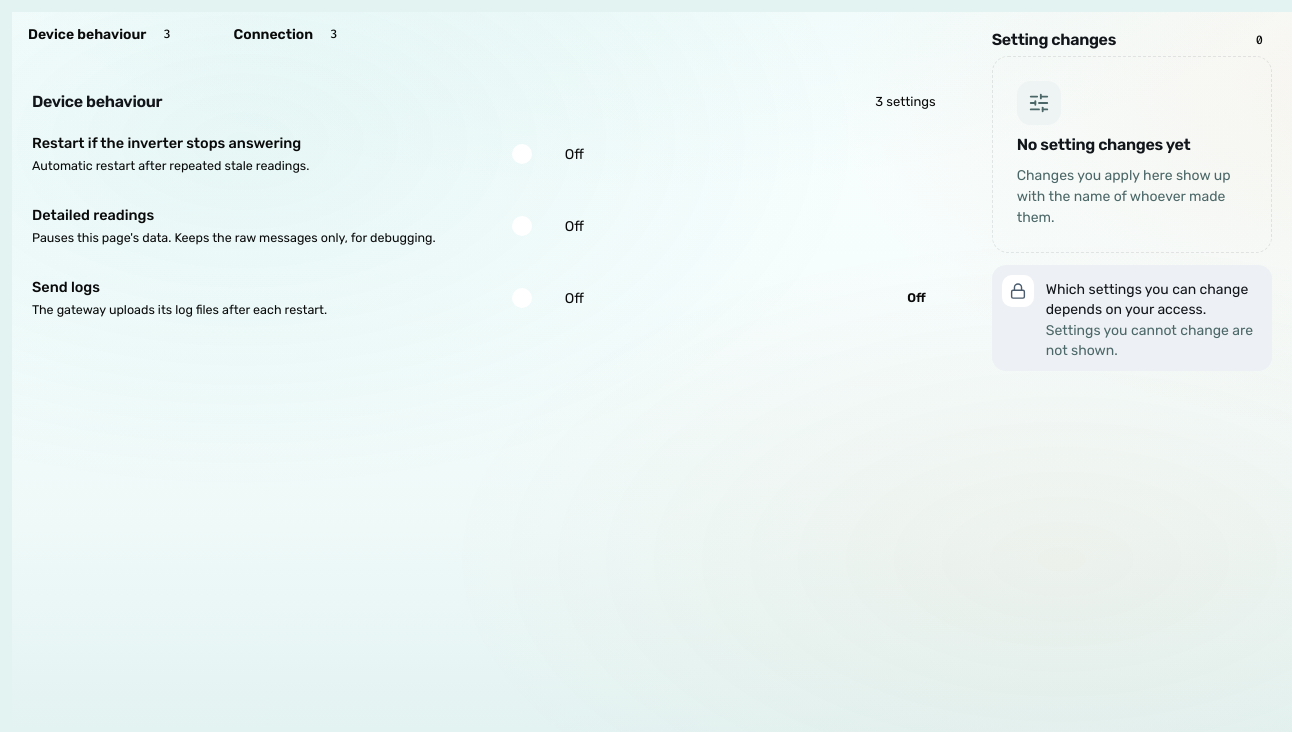
Test: S1/S2/S3 stage, discard, revert
Click the switch named "Send logs".
click(532, 298)  # box x1=508 y1=276 x2=768 y2=320
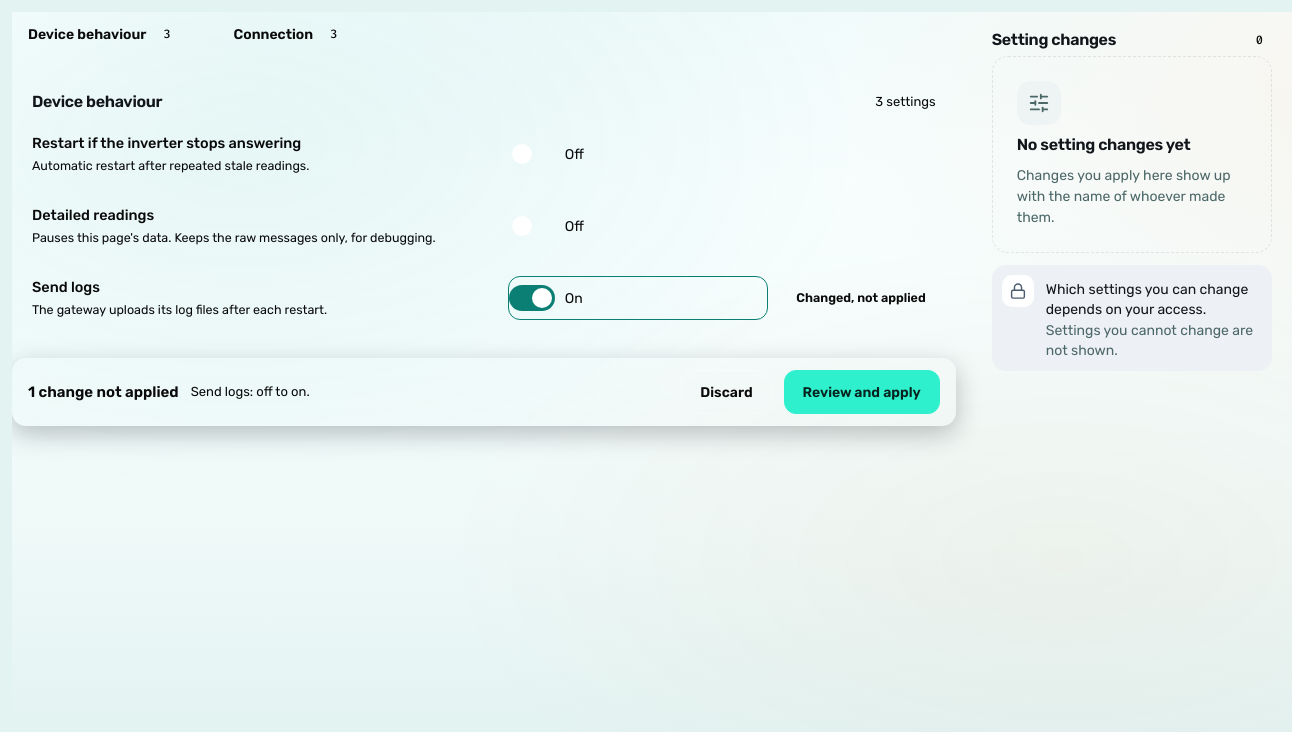
Result: the text "Changed, not applied" is shown at x1=796 y1=290 x2=926 y2=305
Result: the text "1 change not applied" is shown at x1=28 y1=381 x2=179 y2=403
Click the button "Discard".
click(726, 392)  # box x1=681 y1=370 x2=772 y2=414
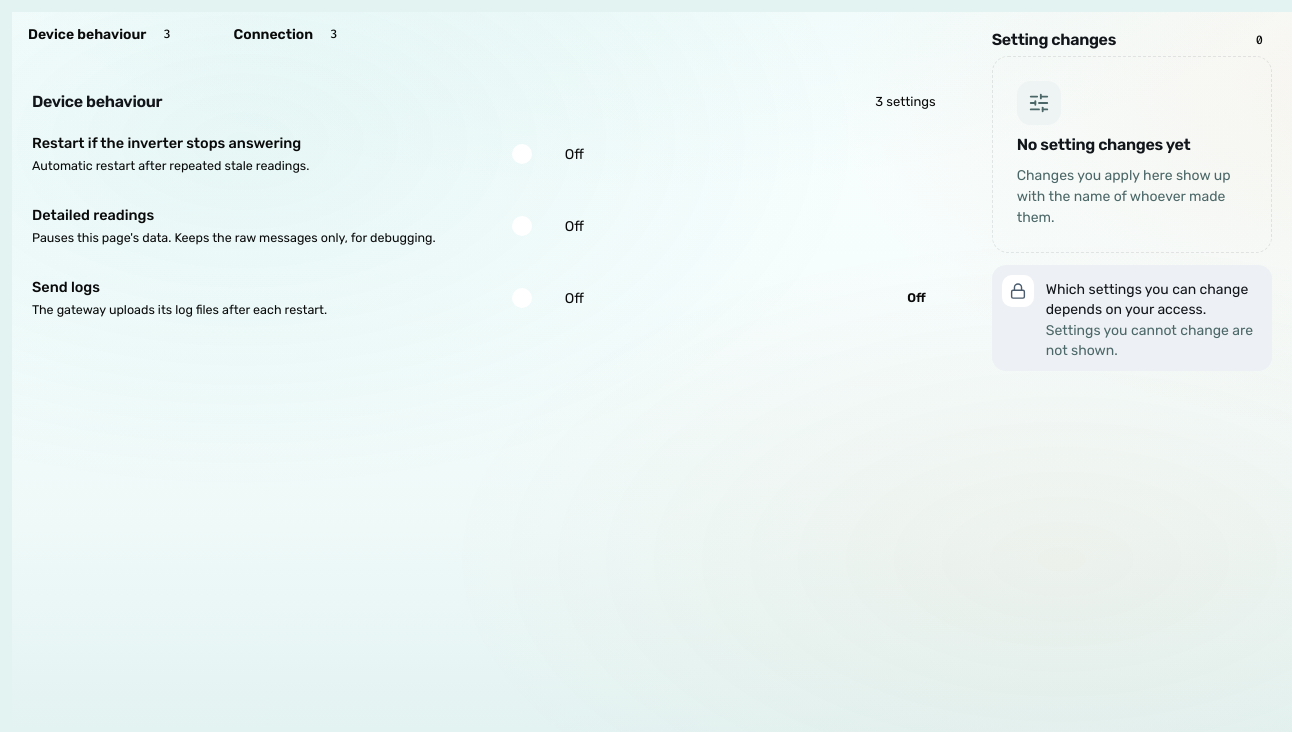
Result: the text "1 change not applied" is gone
Click the switch named "Send logs".
click(532, 298)  # box x1=508 y1=276 x2=768 y2=320
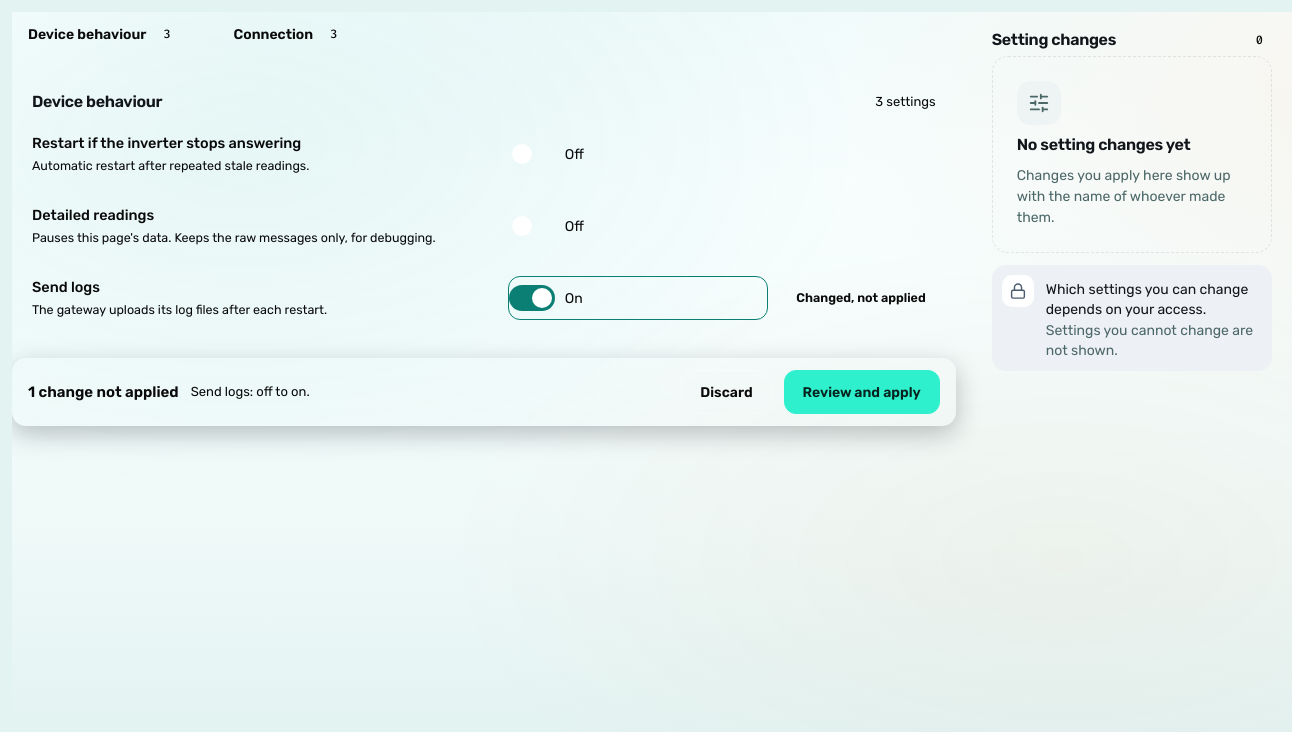
Click the switch named "Send logs".
click(532, 298)  # box x1=508 y1=276 x2=768 y2=320
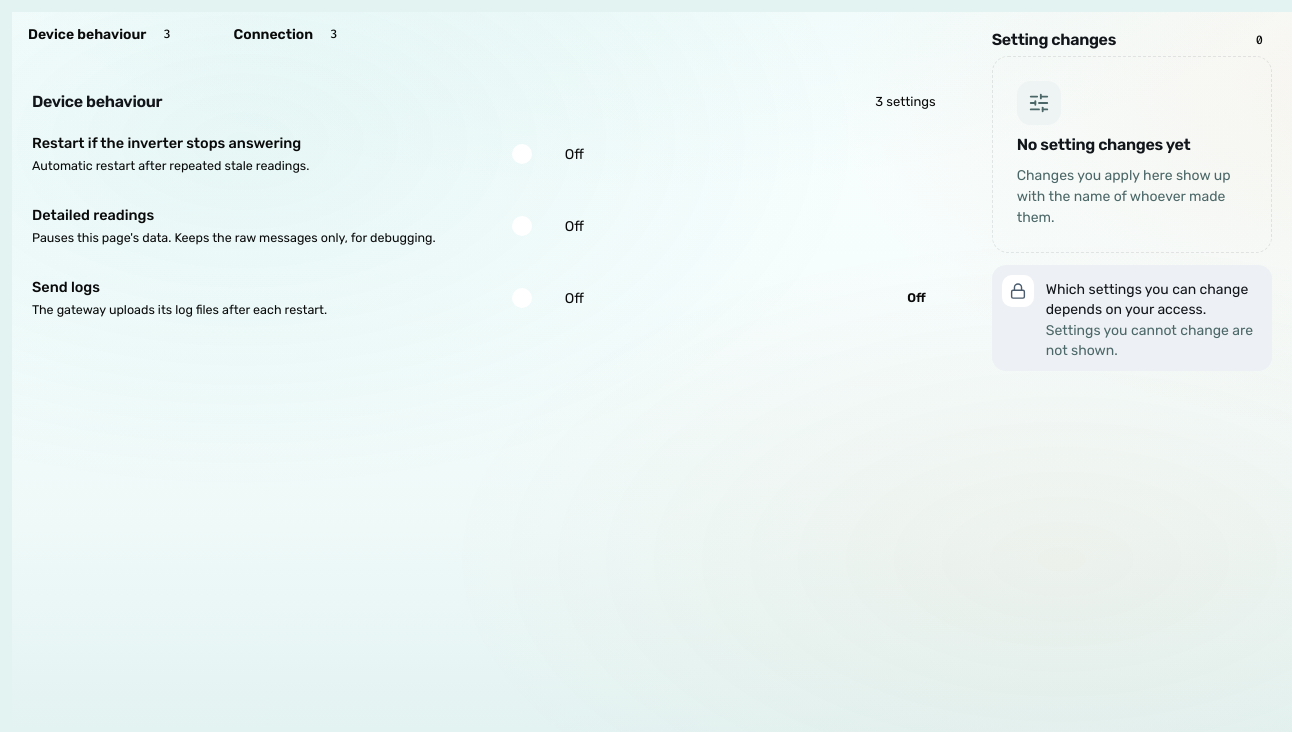
Result: the text "not applied" is gone
